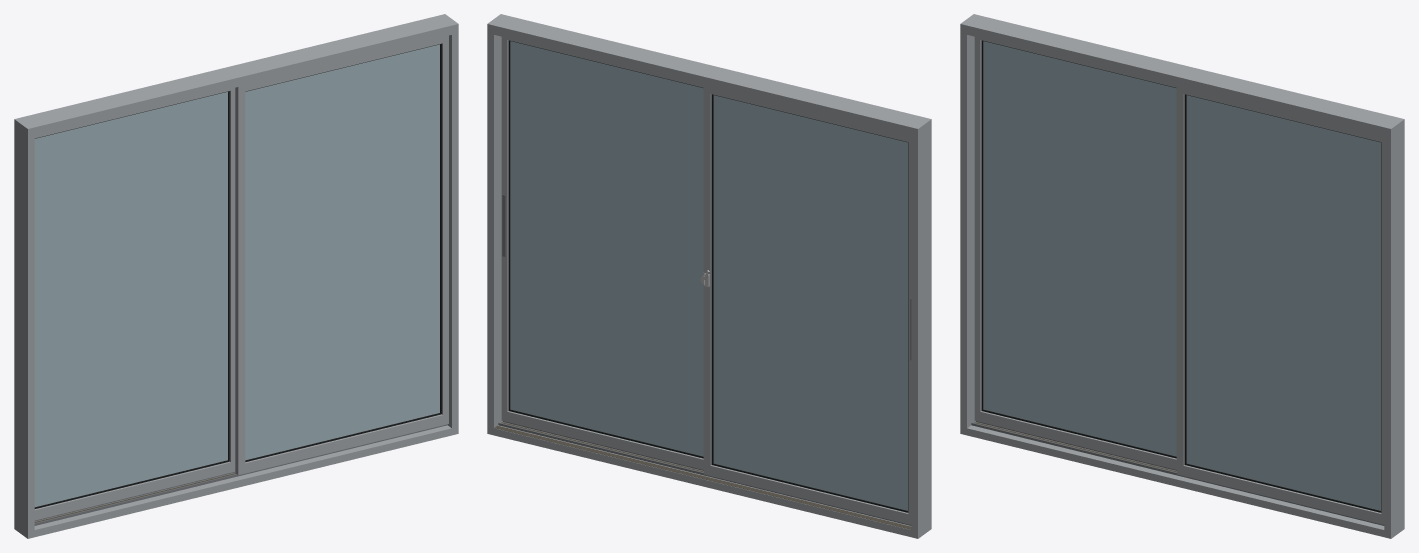
File: window_sliding.glb
3 views of the same model, side by side, from view 1: azimuth 30°, elevation 25°; view 2: azimuth 150°, elevation 25°; view 3: azimuth 330°, elevation 25° (orthographic).
Parts seen in each view (by area): view 1: pane_r, pane_l, body; view 2: pane_l, pane_r, body; view 3: pane_r, pane_l, body.
Part boxes in pixels (x1,y1,x2,y2): pane_r: (235,35,448,475); pane_l: (34,88,235,520); body: (14,14,458,538); pane_l: (700,86,911,524); pane_r: (501,37,703,469); body: (487,14,931,538); pane_r: (1176,86,1384,524); pane_l: (974,37,1176,469); body: (960,14,1404,538).
Bounding box in the file's own units: 2.2 × 2 × 0.12.
